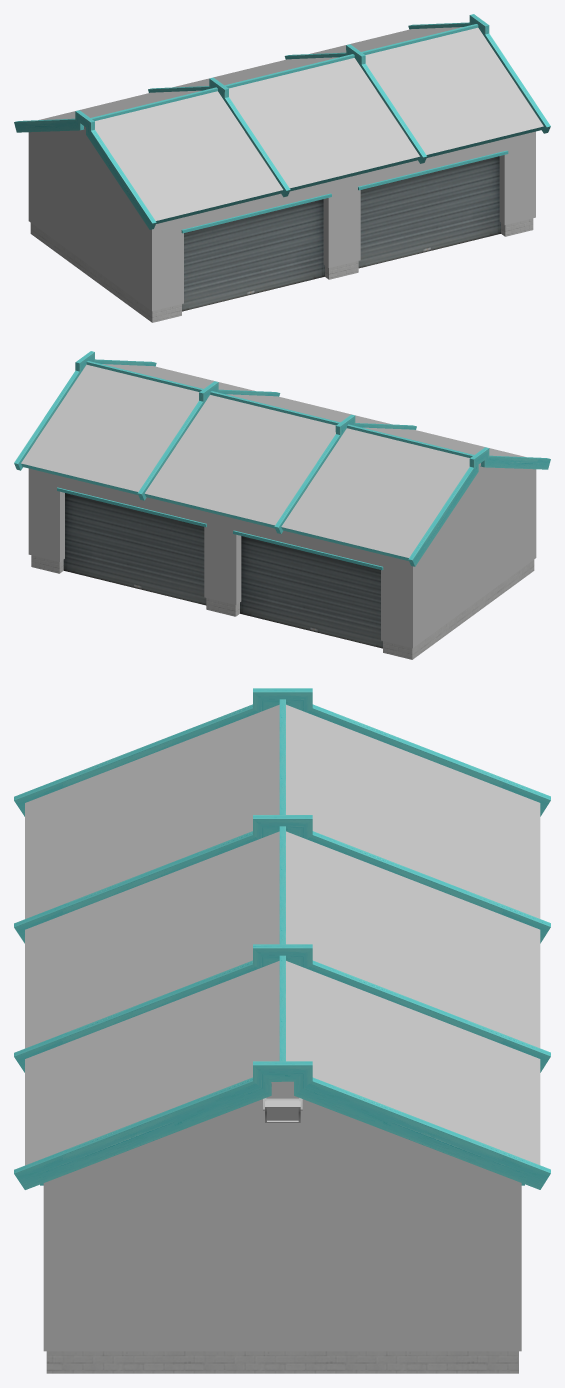
File: PitBuilding_B.fbx
3 renders of one model, top to bottom at view 1: azimuth 30°, elevation 25°; view 2: azimuth 150°, elevation 25°; view 3: azimuth 270°, elevation 25°, orthographic. The views are drawn at different scales.
Parts seen in each view (by area): view 1: Walls, Green_Wood, Green_Wood_Beam; view 2: Walls, Green_Wood, Green_Wood_Beam; view 3: Walls, Green_Wood, Green_Wood_Beam.
Boxes of the visible parts, x1=… form: Walls: x1=28, y1=27, x2=543, y2=322; Green_Wood: x1=14, y1=14, x2=550, y2=229; Green_Wood_Beam: x1=90, y1=24, x2=508, y2=233; Walls: x1=21, y1=364, x2=536, y2=659; Green_Wood: x1=14, y1=351, x2=550, y2=566; Green_Wood_Beam: x1=57, y1=361, x2=473, y2=570; Walls: x1=25, y1=704, x2=540, y2=1373; Green_Wood: x1=14, y1=688, x2=550, y2=1189; Green_Wood_Beam: x1=40, y1=699, x2=524, y2=1185.
Size of the model in its own units: 14.52 by 5.63 by 8.63.
